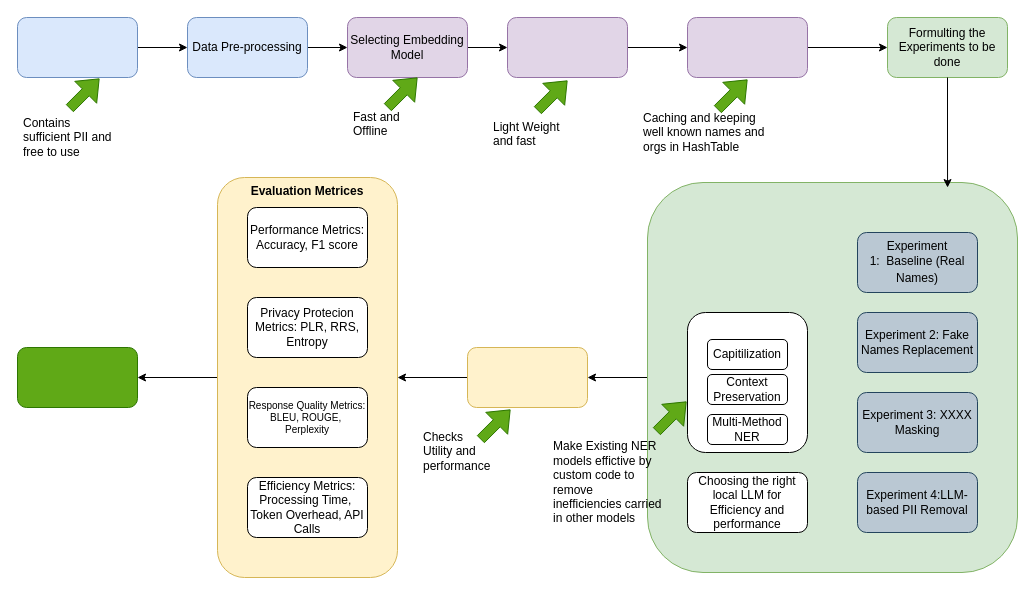
The diagram is 1035 pixels wide and 595 high, and some of its shapes have lost their labels. Here are the shapes that lost their labels. From the top down, the box of each, then its label:
(16, 16, 138, 78): DataSet Selection
(506, 16, 628, 78): Selecting NER Library
(686, 16, 808, 78): Various Optimizations for PII Identifications
(16, 346, 138, 408): Propose CMS Framwork for Utility and performance
(466, 346, 588, 408): Selecting the right Evaluation Metrcs
(686, 312, 808, 452): Smart NER Methods
